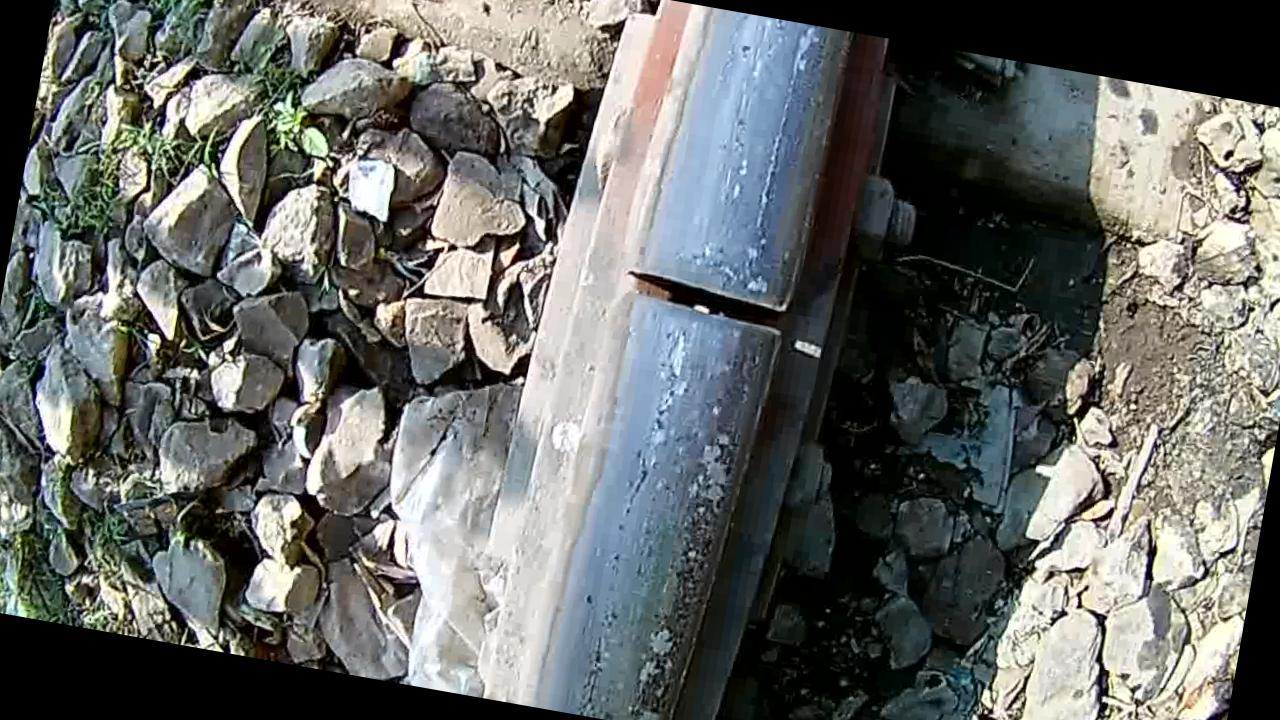clip_missing: (539, 339, 779, 720)
